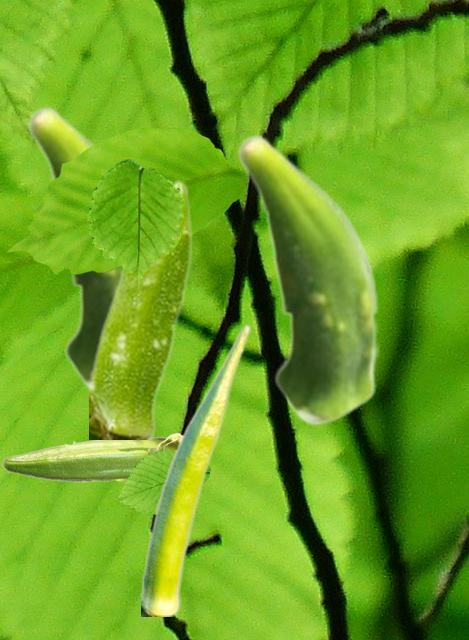okra: (236, 133, 380, 425), (26, 105, 170, 392), (141, 323, 249, 615), (89, 178, 192, 438), (2, 432, 181, 481)
